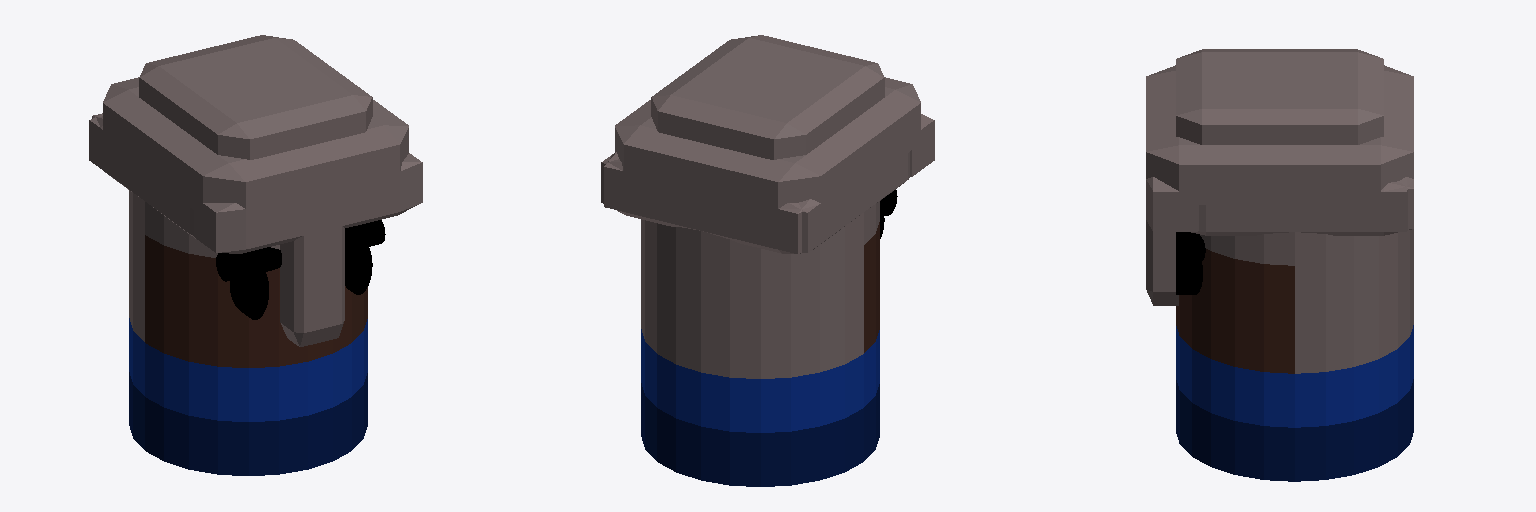
The model's file is Character2.obj.
3 renders of one model, left to right at view 1: azimuth 30°, elevation 25°; view 2: azimuth 150°, elevation 25°; view 3: azimuth 270°, elevation 25°, orthographic.
Size of the model in its own units: 0.8 by 1.3 by 0.9.